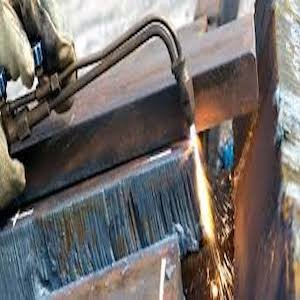heat: (187, 123, 239, 299)
